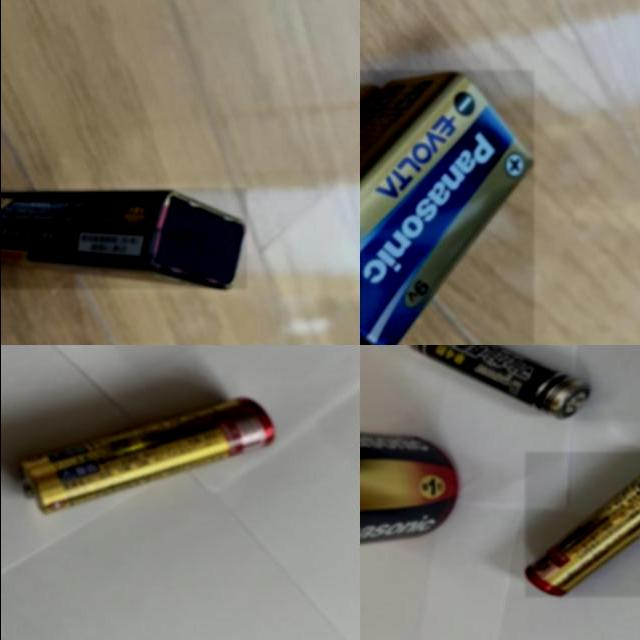9V: (359, 70, 533, 345), (0, 188, 246, 289)
